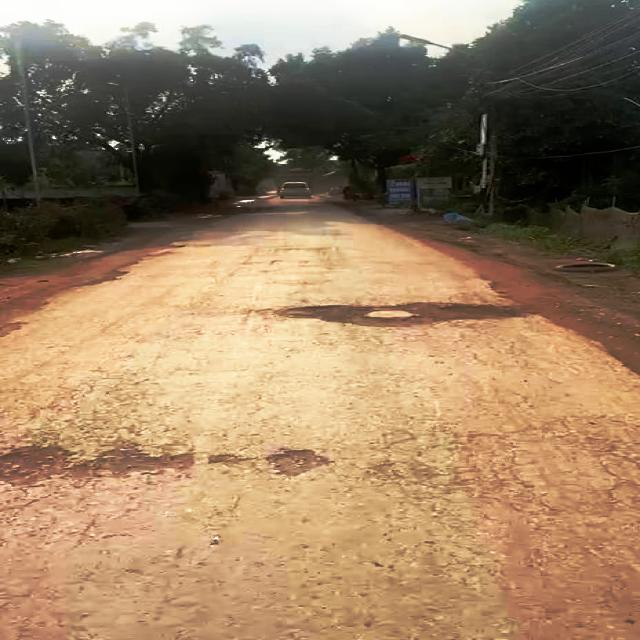pothole: (0, 433, 200, 492), (276, 297, 521, 329)
